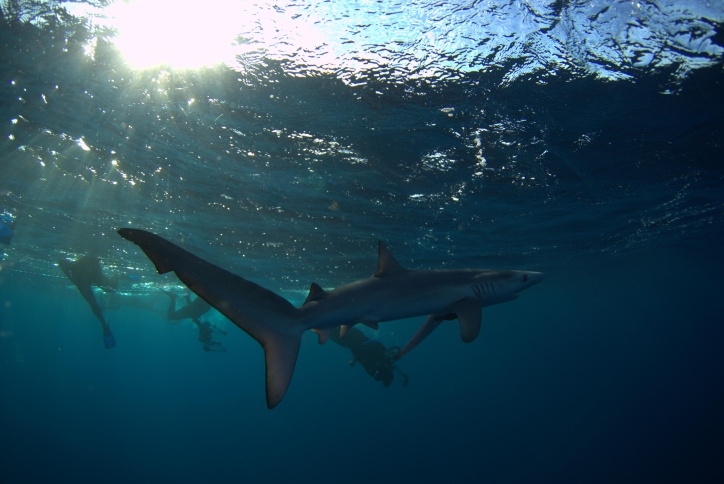Azul: (105, 190, 585, 417)
